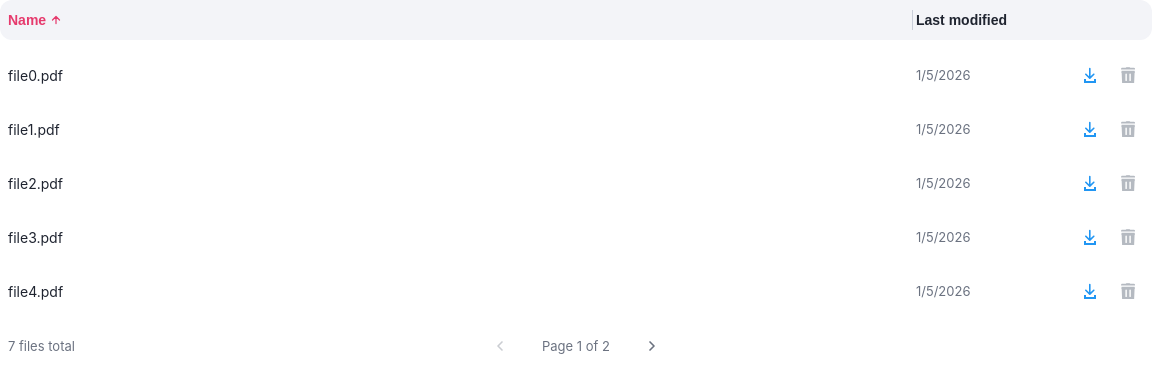
it: pagination: shows 5 rows per page and the arrows move between pages
Step 1. Click the button with test id "file-list-next-page" → (652,346), box [636,330,668,362]
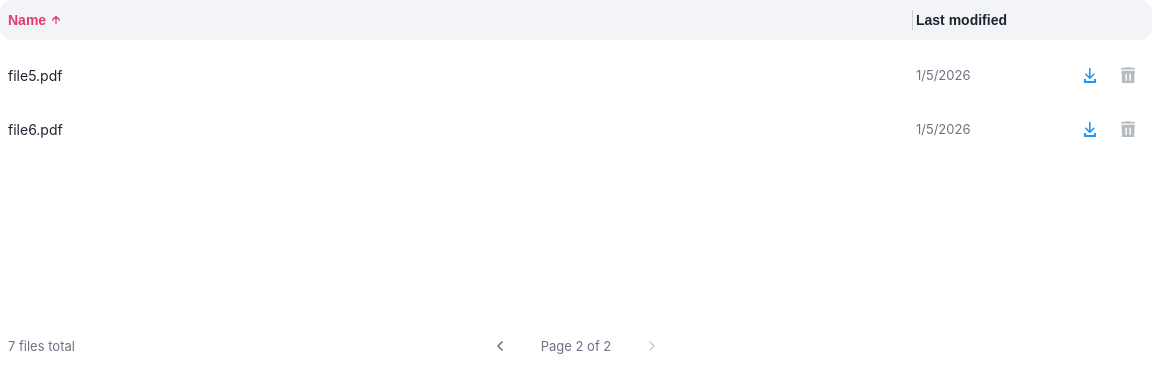
expect the text with test id "file-list-page-indicator" reads "Page 2 of 2": met, box [541,338,611,354]
Step 2. Click the button with test id "file-list-prev-page" → (500,346), box [484,330,516,362]
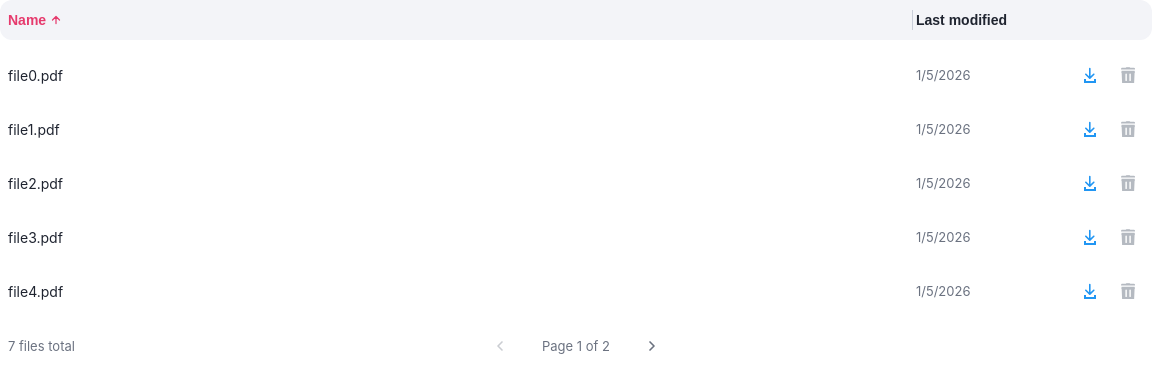
expect the text with test id "file-list-page-indicator" reads "Page 1 of 2": met, box [542,338,610,354]
